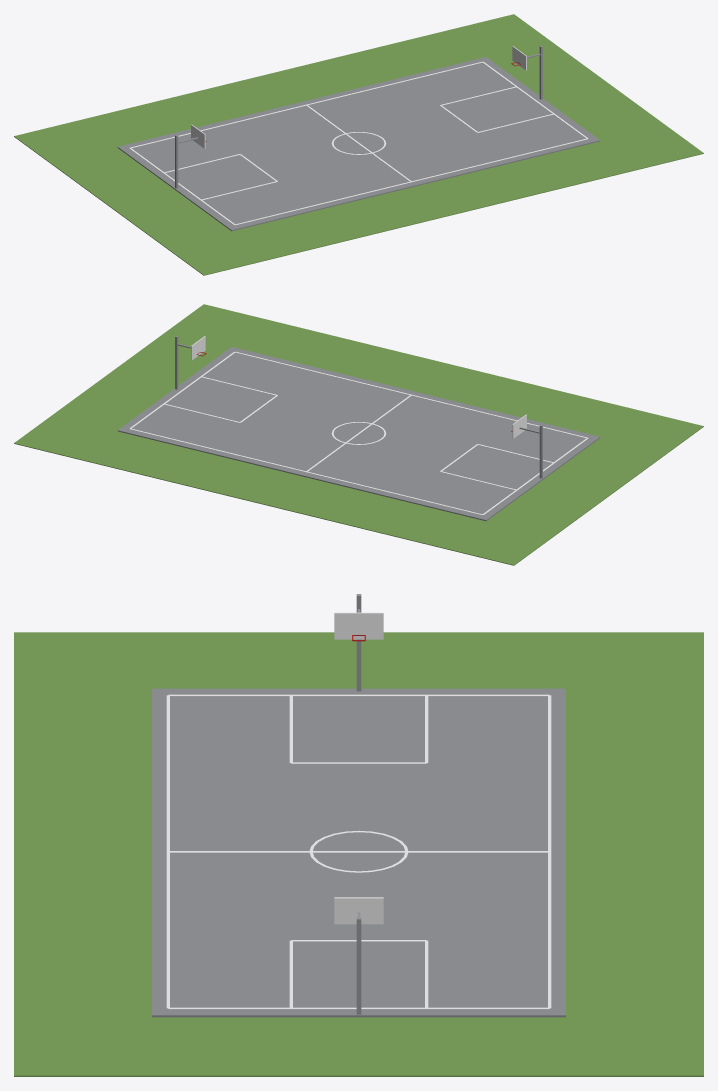
Rendered from cancha.glb.
3 renders of one model, top to bottom at view 1: azimuth 30°, elevation 25°; view 2: azimuth 150°, elevation 25°; view 3: azimuth 270°, elevation 25°, orthographic. The views are drawn at different scales.
Parts seen in each view (by area): view 1: Cancha; view 2: Cancha; view 3: Cancha.
Part boxes in pixels (x1,y1,x2,y2): Cancha: [14, 14, 703, 275]; Cancha: [14, 304, 703, 565]; Cancha: [14, 594, 703, 1076].
Bounding box in the file's own units: 38.05 × 4 × 25.03.
